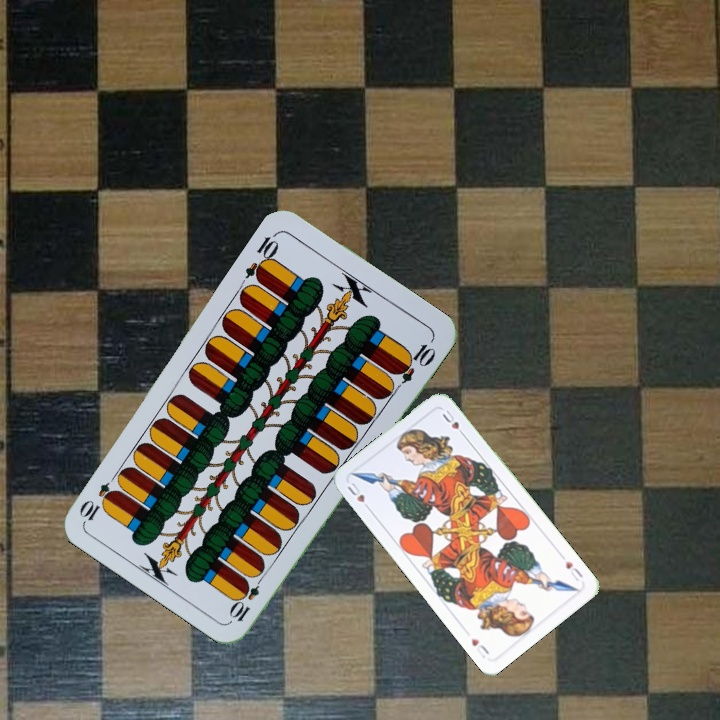E10: (240, 228, 282, 285), (227, 569, 267, 625)
HU: (343, 478, 373, 513), (557, 551, 585, 584)
